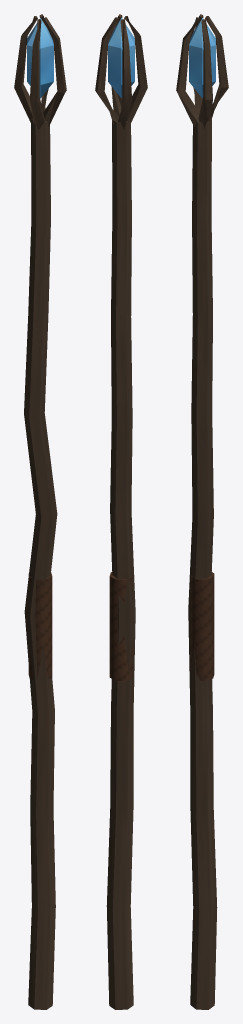
Rendered from staff_wizard.obj.
3 renders of one model, left to right at view 1: azimuth 30°, elevation 25°; view 2: azimuth 150°, elevation 25°; view 3: azimuth 330°, elevation 25°, orthographic.
Parts seen in each view (by area): view 1: staff_wizard; view 2: staff_wizard; view 3: staff_wizard.
Boxes of the visible parts, <box> form: staff_wizard: <box>14,14,66,1009</box>; staff_wizard: <box>95,14,147,1009</box>; staff_wizard: <box>176,14,228,1009</box>.
Size of the model in its own units: 0.0764 by 1.95 by 0.0764.
1 material, 1 textured.
